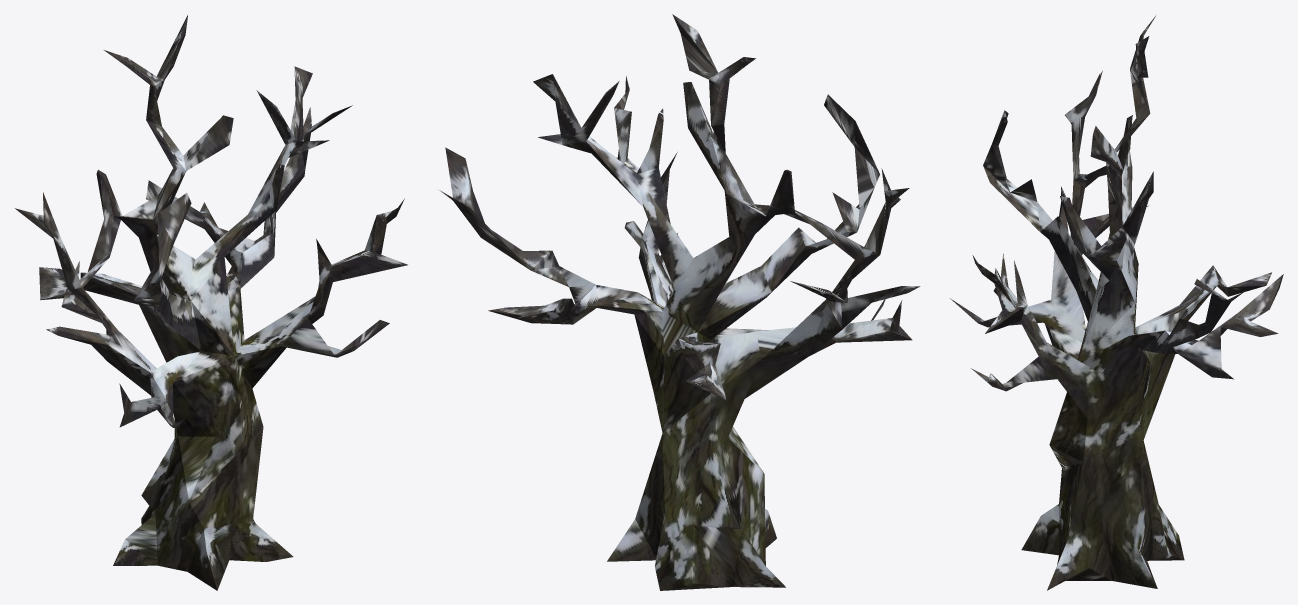
Rendered from bare_tree.glb.
3 views of the same model, side by side, from view 1: azimuth 30°, elevation 25°; view 2: azimuth 150°, elevation 25°; view 3: azimuth 270°, elevation 25° (orthographic). The views are drawn at different scales.
Parts seen in each view (by area): view 1: Mesh; view 2: Mesh; view 3: Mesh.
Boxes of the visible parts, left/top/right/bottom form: Mesh: left=15, top=15, right=407, bottom=590; Mesh: left=439, top=14, right=920, bottom=590; Mesh: left=950, top=16, right=1283, bottom=590.
Size of the model in its own units: 0.7459 by 0.9694 by 0.5533.
Materials: 1 (1 with a texture image).
